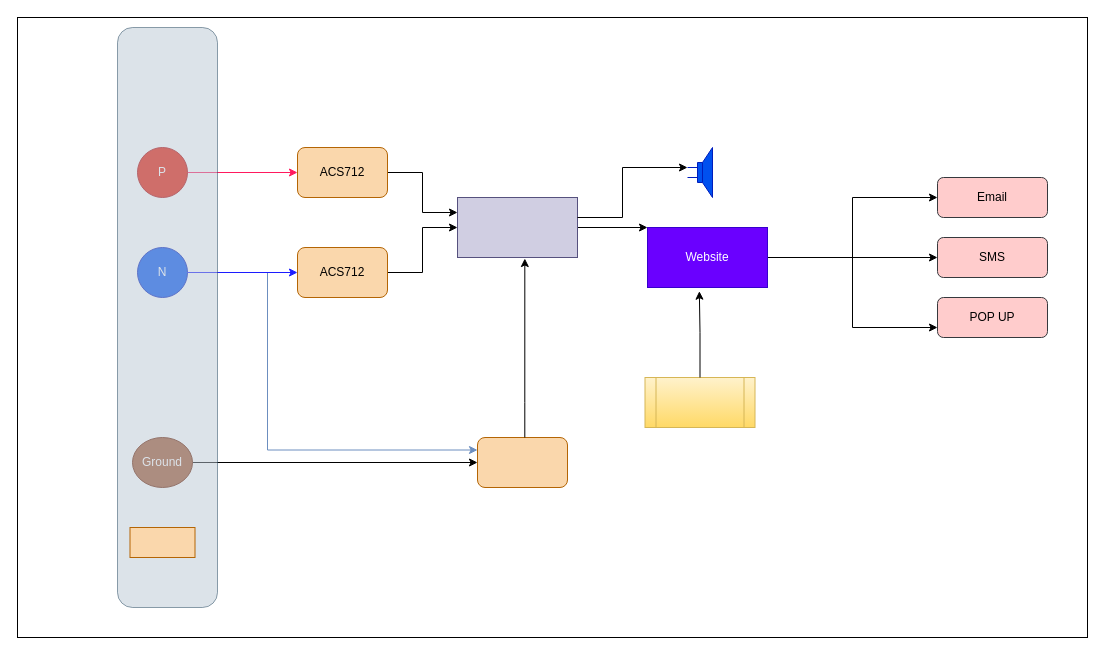
Image size: 1105x655. Some labels were removed from this diagram. The shapes that lost their labels are listed below. From the top down, each one's centre as x and y in pixels, then its label:
At point (517, 227): "ESP 32".
At point (699, 402): "Fault Prediction Model".
At point (522, 462): "ZMPT101B".
At point (162, 542): "Eletric Pole".
